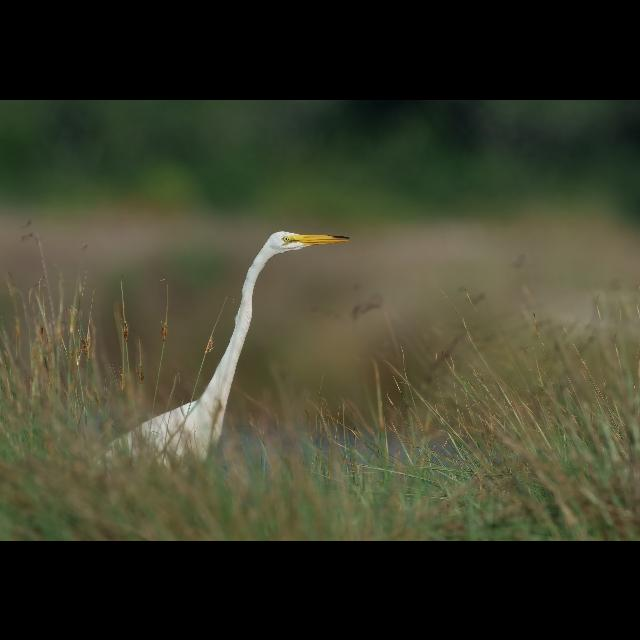egret: (96, 216, 354, 472)
